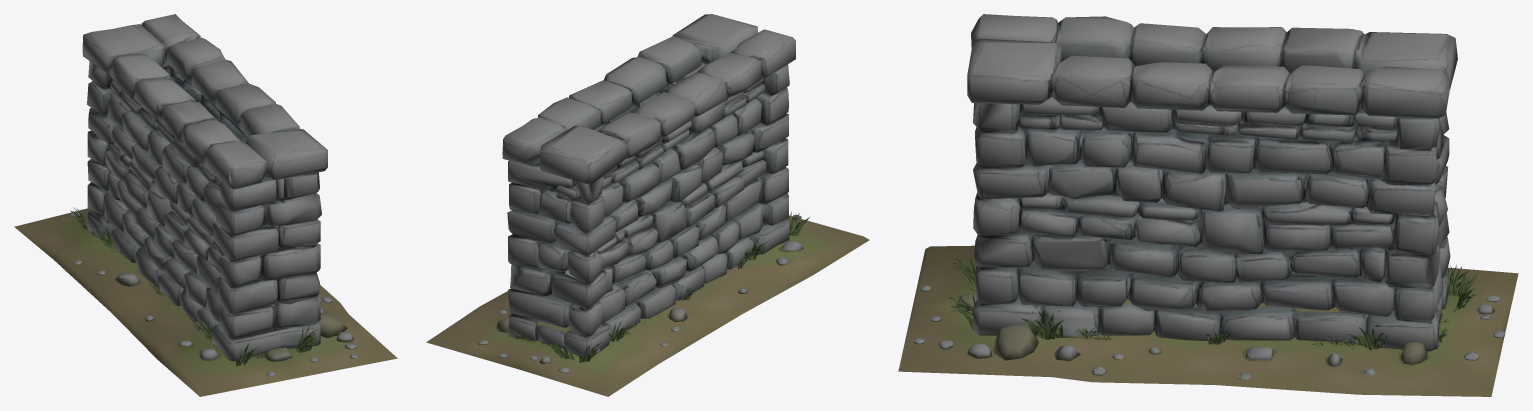
File: a49803db-c3f9-402a-9bdf-d2cf9ad3615e_model.glb
3 views of the same model, side by side, from view 1: azimuth 30°, elevation 25°; view 2: azimuth 150°, elevation 25°; view 3: azimuth 270°, elevation 25° (orthographic). The views are drawn at different scales.
Visible parts, largest first — view 1: tripo_node_a49803db-c3f9-402a-9bdf-d2cf9ad3615e; view 2: tripo_node_a49803db-c3f9-402a-9bdf-d2cf9ad3615e; view 3: tripo_node_a49803db-c3f9-402a-9bdf-d2cf9ad3615e.
Boxes of the visible parts, x1,y1,x2,y2 form: tripo_node_a49803db-c3f9-402a-9bdf-d2cf9ad3615e: (14,14,397,396); tripo_node_a49803db-c3f9-402a-9bdf-d2cf9ad3615e: (426,14,869,396); tripo_node_a49803db-c3f9-402a-9bdf-d2cf9ad3615e: (898,14,1518,396).
Size of the model in its own units: 1.73 by 1.5 by 3.09.
1 material, 1 textured.
